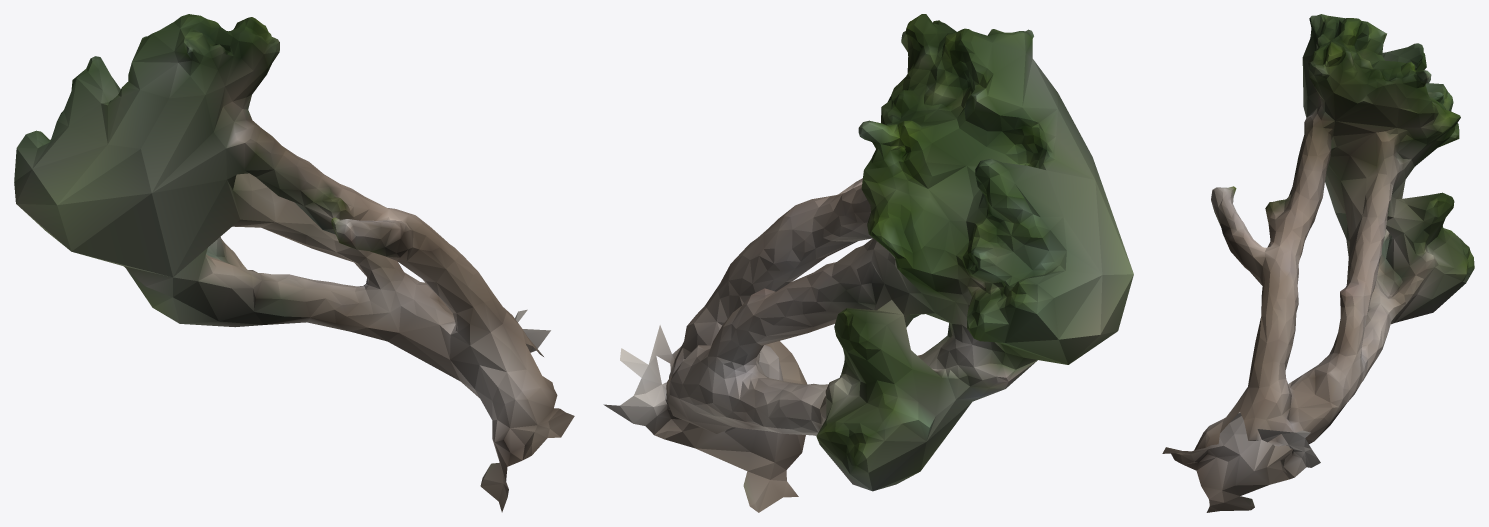
Rendered from Plant_fixed.obj.
The picture shows the model from 3 angles, left to right: view 1: azimuth 30°, elevation 25°; view 2: azimuth 150°, elevation 25°; view 3: azimuth 270°, elevation 25°; orthographic projection. The views are drawn at different scales.
Bounding box in the file's own units: 0.1242 × 0.1288 × 0.0901.
